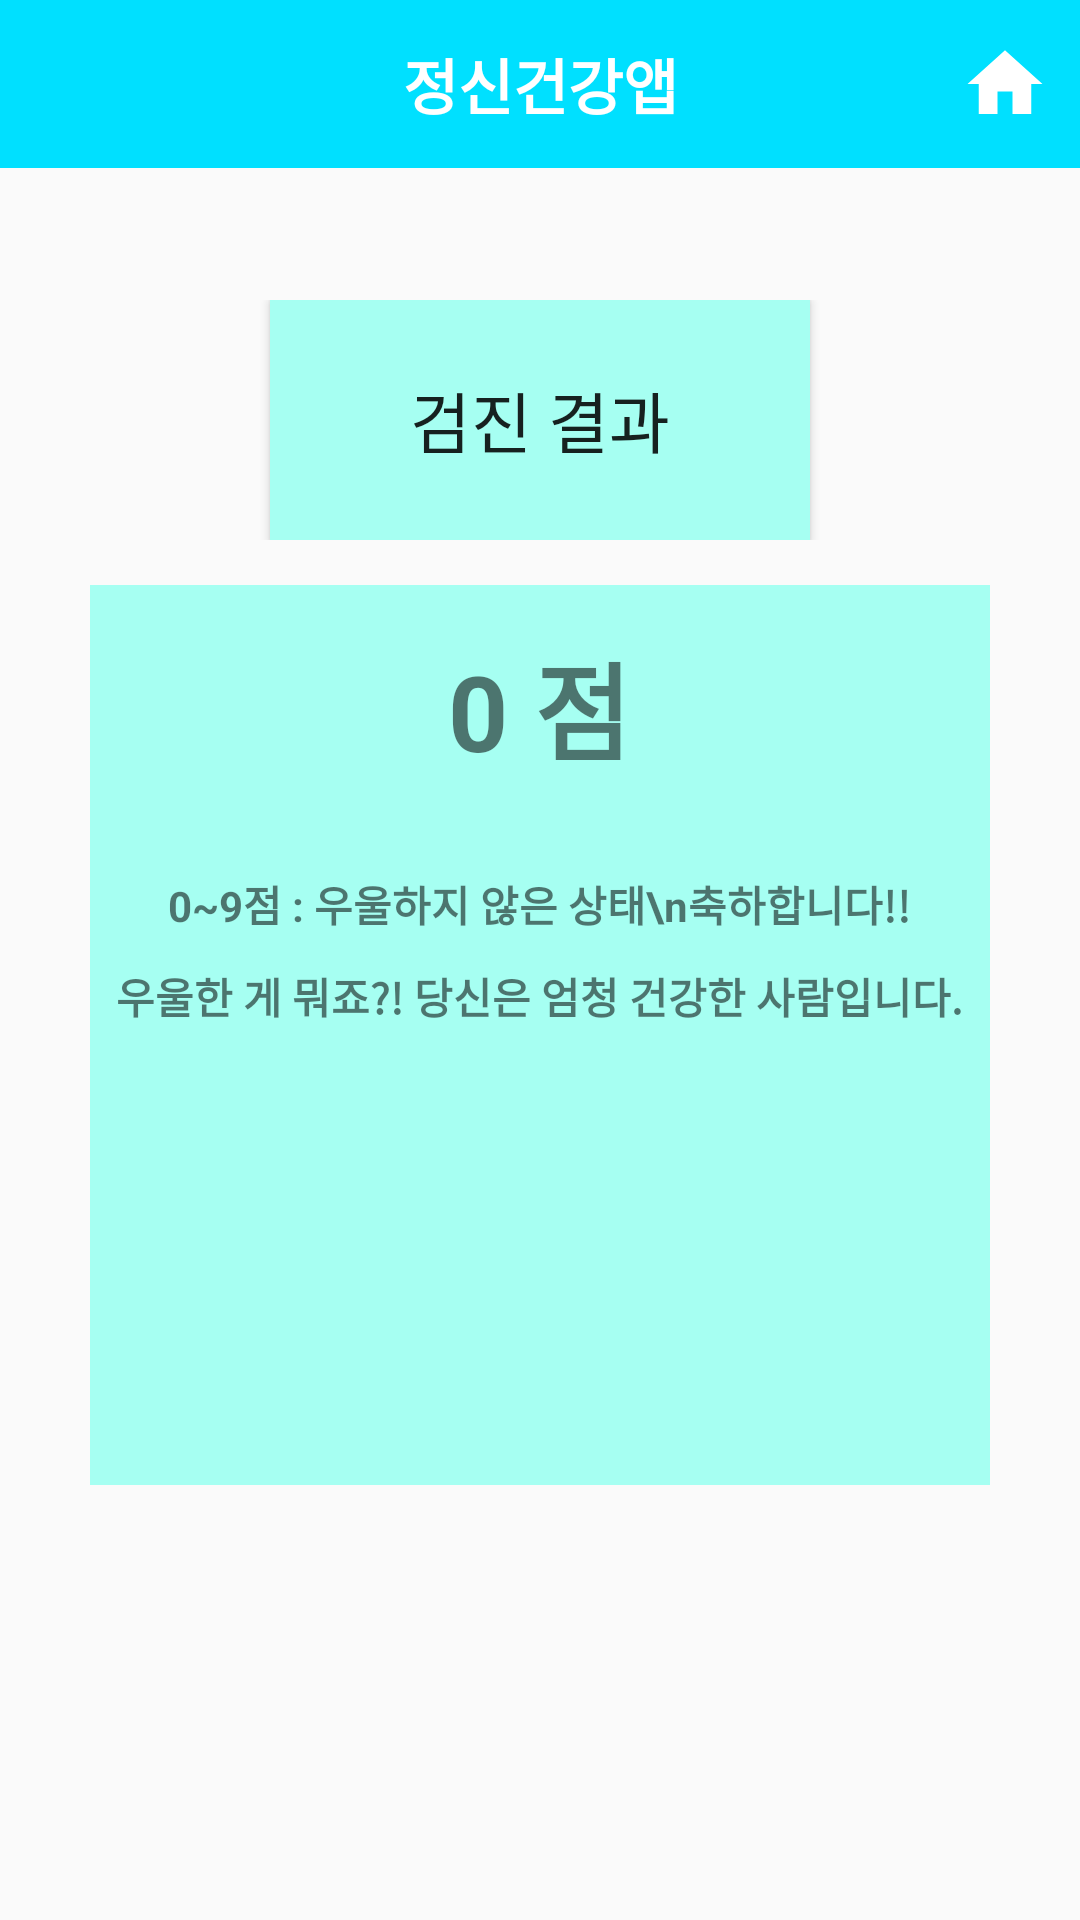

Icon bounding boxes for this 1080px x 1920px phone screenshot, format (x1,y1,x2,y2):
home: (968,50,1042,114)
